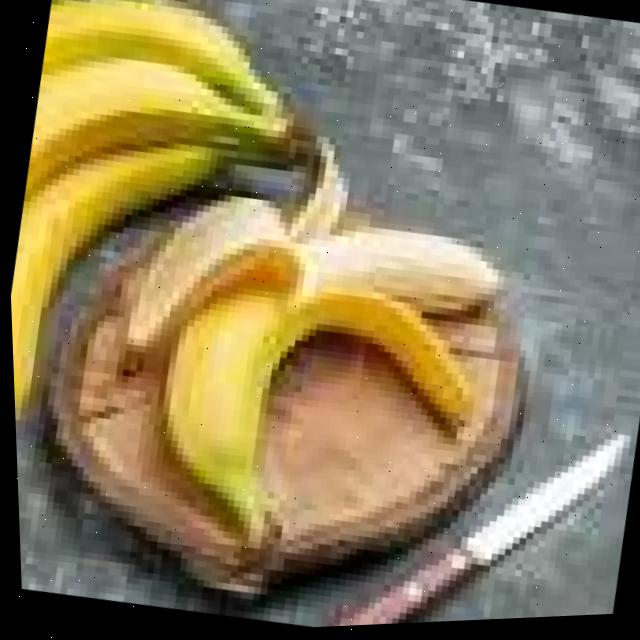Banana: (8, 146, 216, 414), (23, 59, 286, 195), (41, 0, 281, 119)
